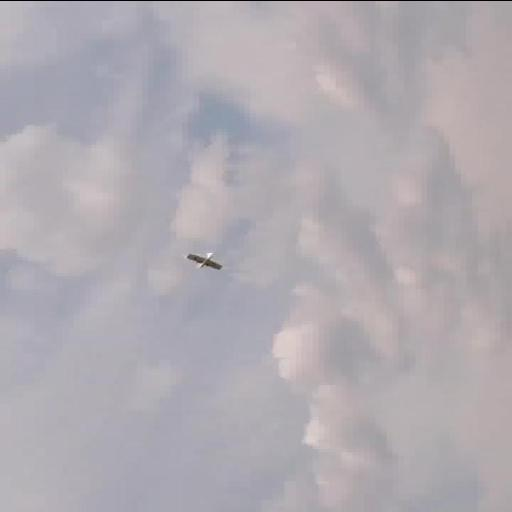uav: (179, 248, 232, 276)
